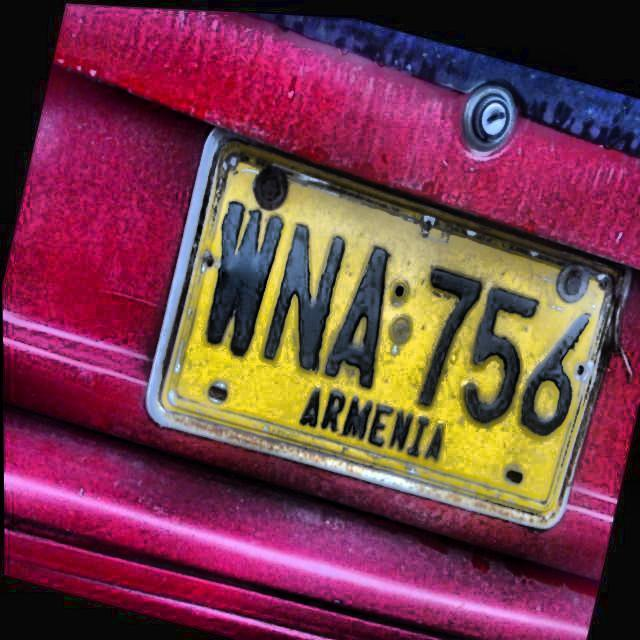plate: (169, 150, 618, 513)
